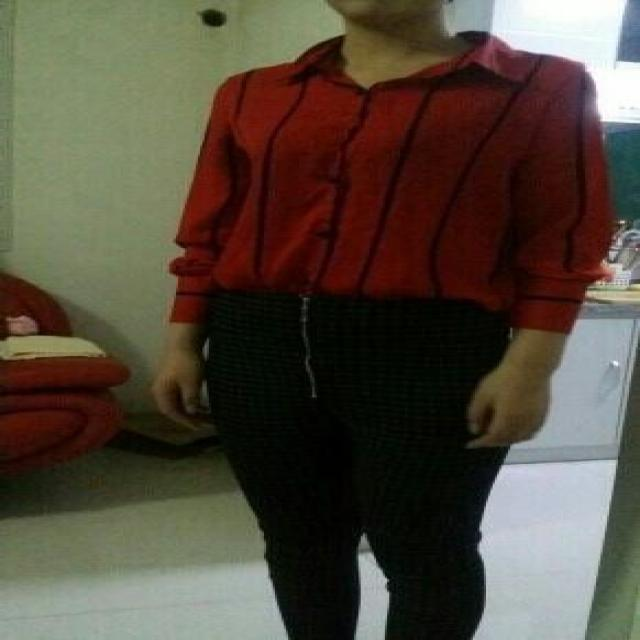long sleeve top: (174, 37, 614, 332)
trousers: (209, 279, 519, 639)
